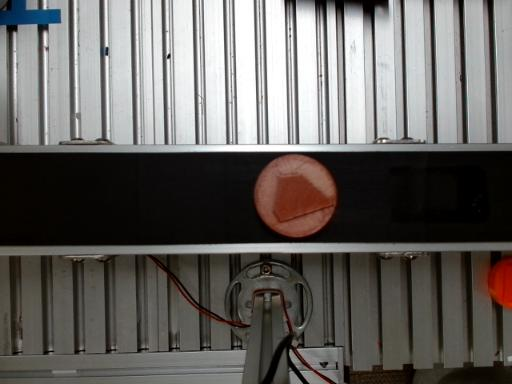Brown_Waper: (254, 154, 337, 238)
Not_Square: (270, 170, 336, 224)
